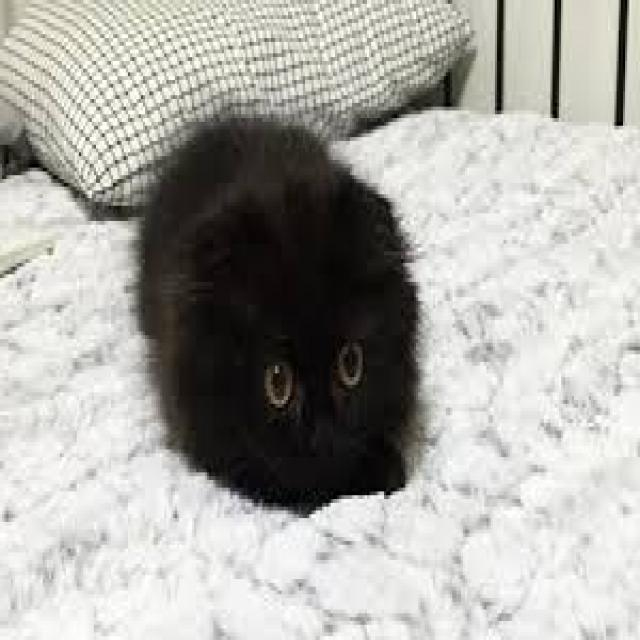black cat: (141, 113, 420, 516)
